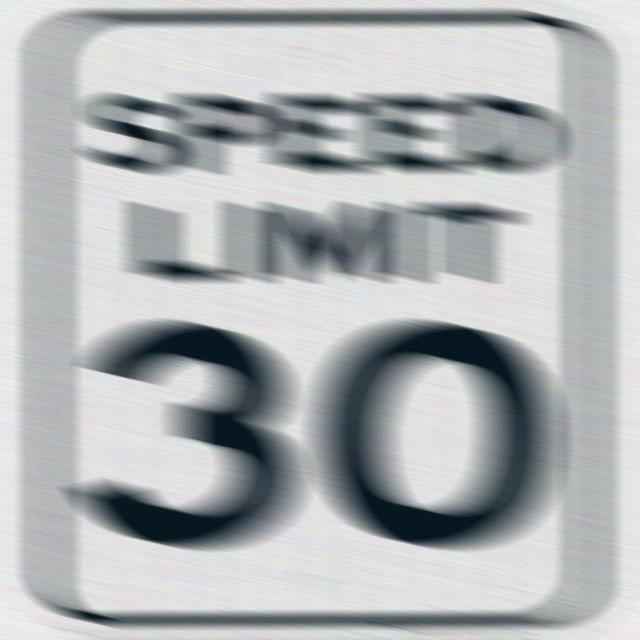speedLimit30: (17, 1, 615, 639)
